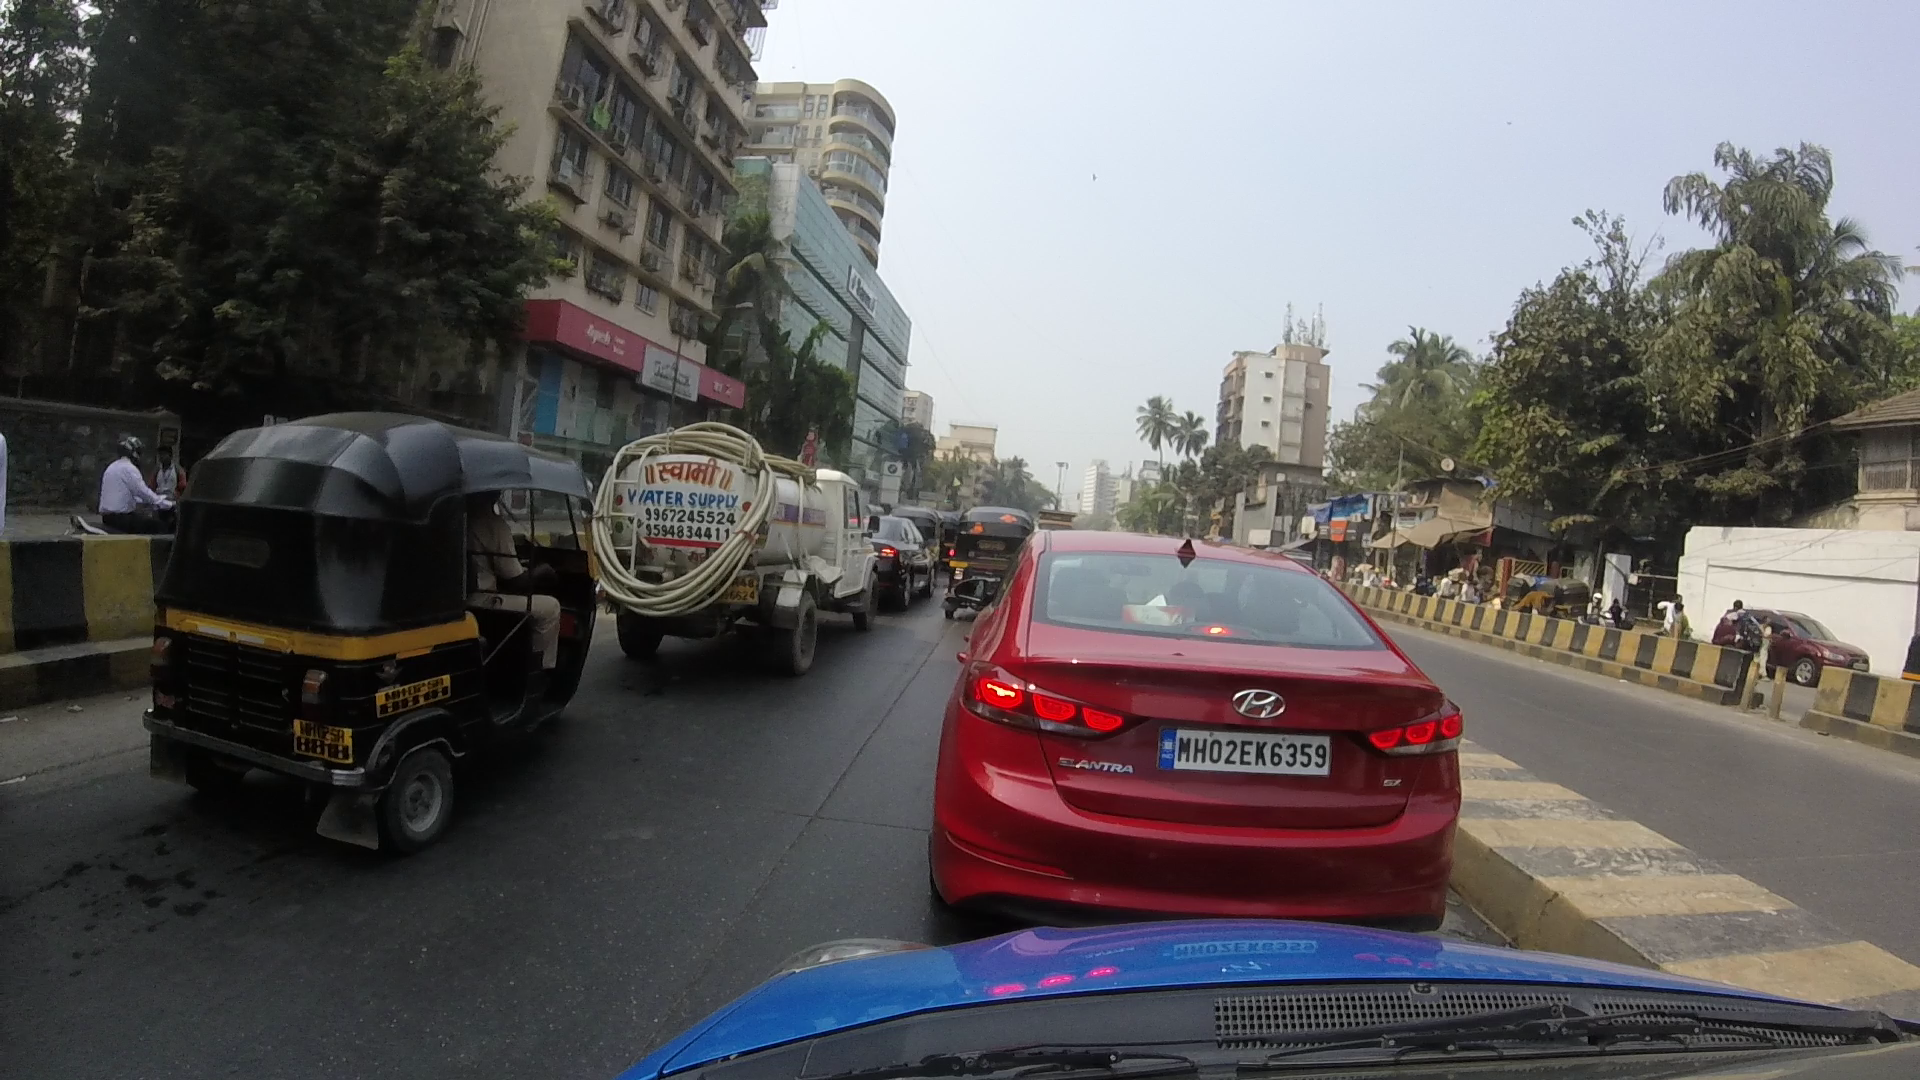bike/scooter: (67, 414, 177, 535)
car: (945, 520, 1498, 924), (869, 502, 942, 603)
rickshaw: (107, 386, 615, 840), (943, 500, 1033, 603)
truck: (592, 398, 898, 680)
